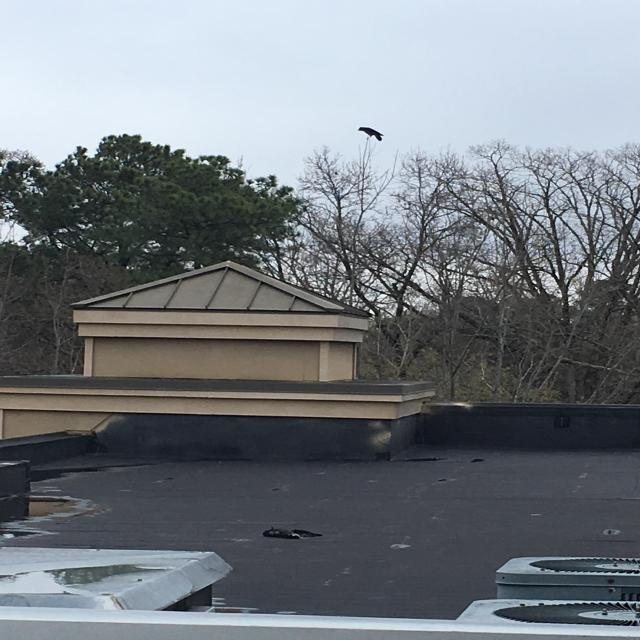bird: (358, 126, 384, 142)
